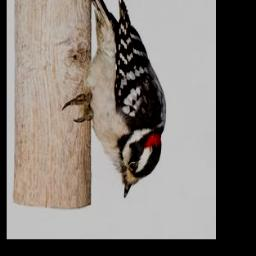Woodpecker: (63, 0, 167, 199)
